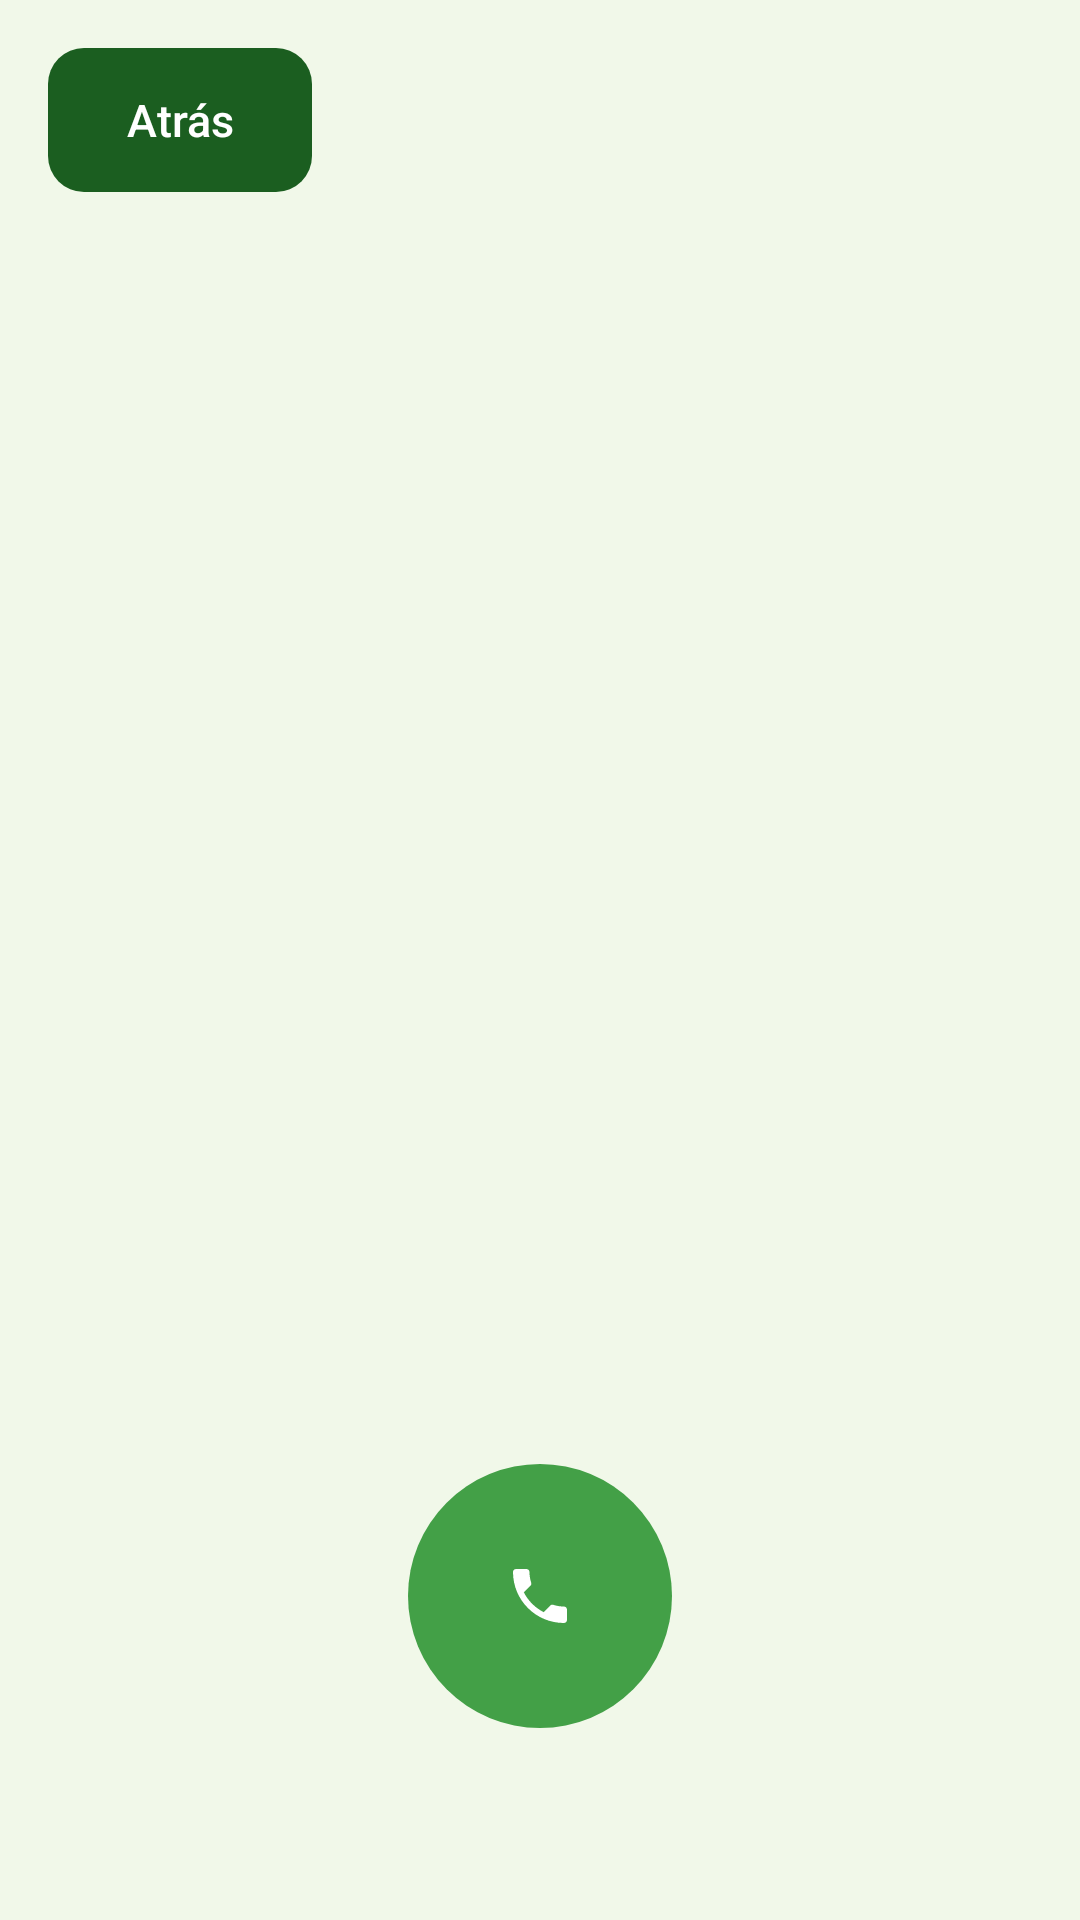

Screen size 1080 x 1920. Icon name, then its box in pixels as (x1, y1, x2, y2):
Llamar: (408, 1464, 672, 1728)
